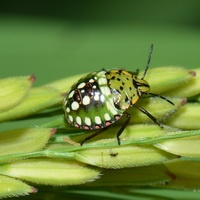insect: (63, 44, 173, 144)
